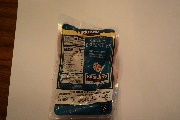chicken: (49, 10, 122, 120)
